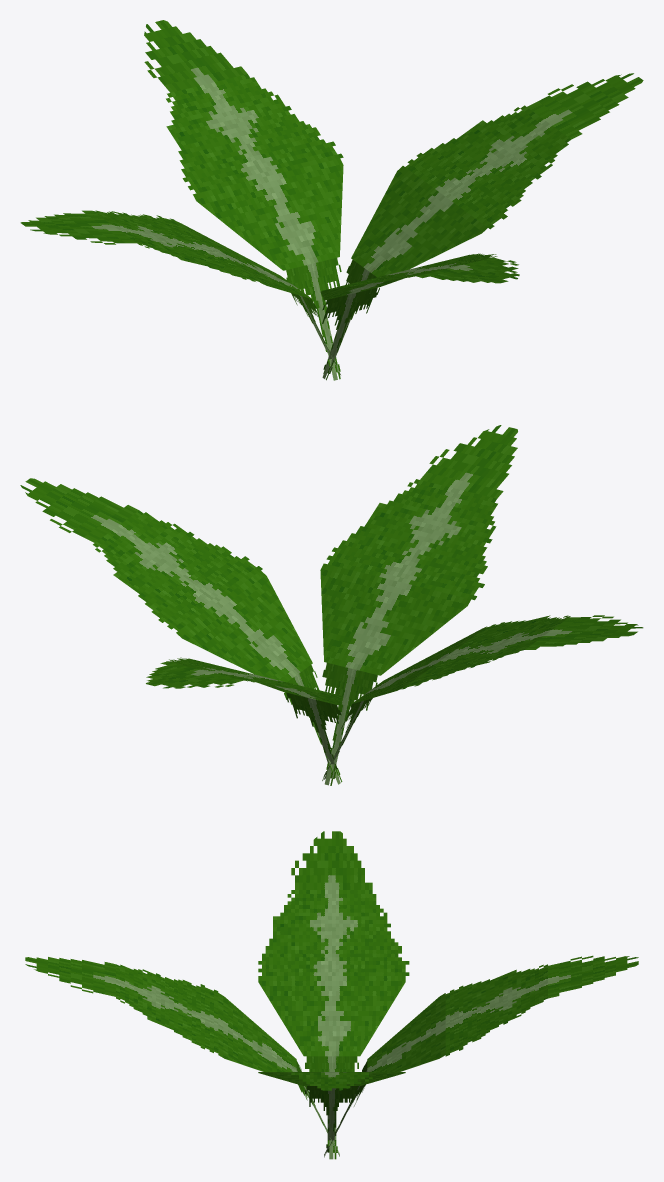
File: Plant_0.fbx
3 views of the same model, one above another, from view 1: azimuth 30°, elevation 25°; view 2: azimuth 150°, elevation 25°; view 3: azimuth 270°, elevation 25° (orthographic). The views are drawn at different scales.
Parts seen in each view (by area): view 1: Plant_0; view 2: Plant_0; view 3: Plant_0.
Part boxes in pixels (x1,y1,x2,y2): Plant_0: (20,20,643,380); Plant_0: (20,425,643,785); Plant_0: (25,831,638,1159).
Size of the model in its own units: 337 by 115 by 337.
Materials: 1 (1 with a texture image).
